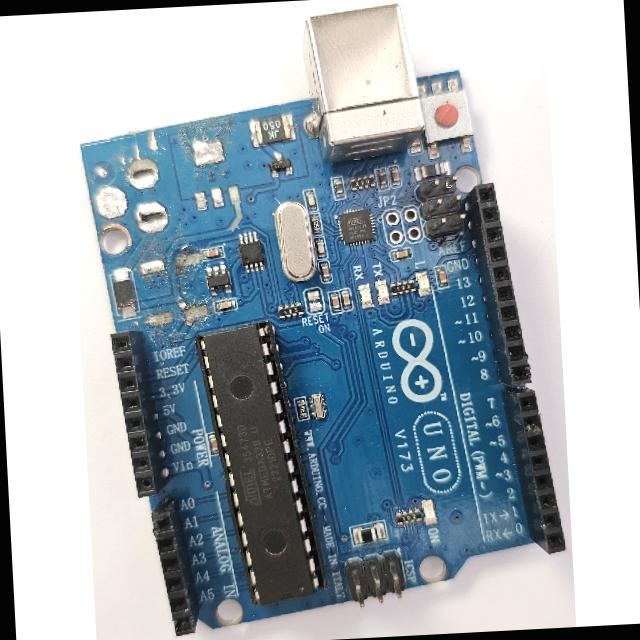missing_capacitors: (132, 237, 216, 338)
missing_eps: (108, 149, 178, 246)
missing_voltage_reg: (175, 127, 249, 223)
